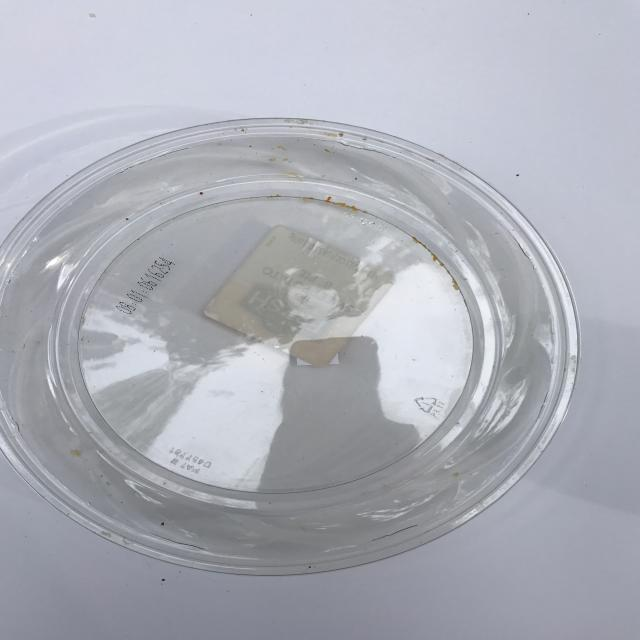plastic: (0, 115, 581, 575)
